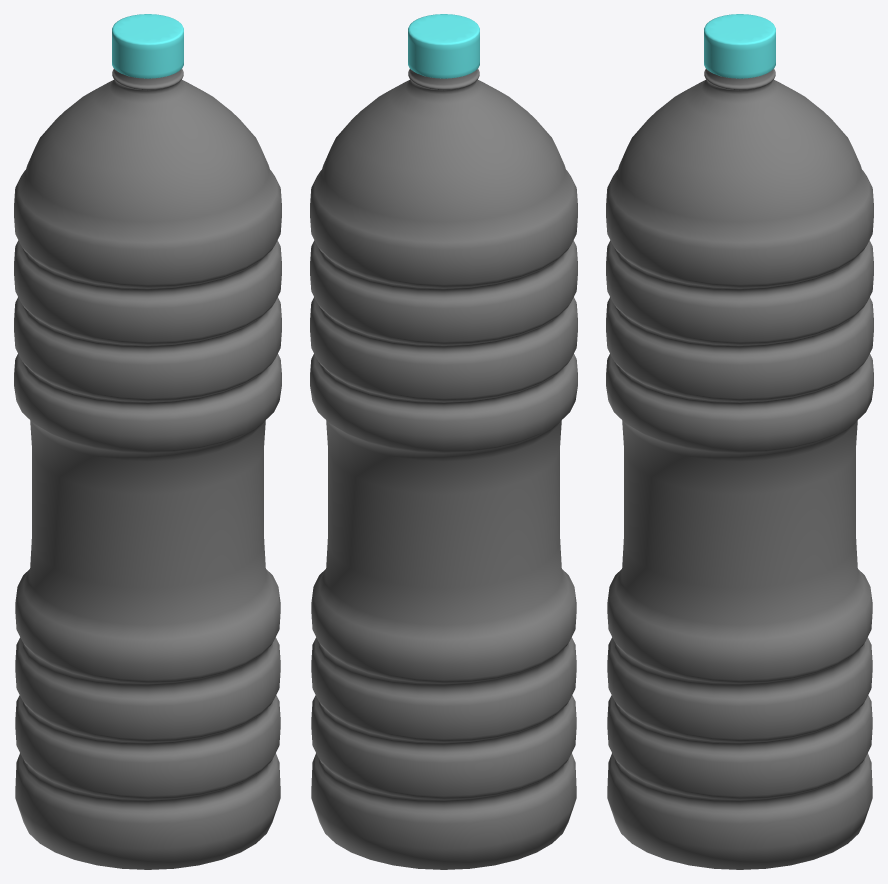
File: Water bottle.fbx
The picture shows the model from 3 angles, left to right: view 1: azimuth 30°, elevation 25°; view 2: azimuth 150°, elevation 25°; view 3: azimuth 270°, elevation 25°; orthographic projection.
Visible parts, largest first — view 1: 1,5L Bottle Done; view 2: 1,5L Bottle Done; view 3: 1,5L Bottle Done.
Part boxes in pixels (x1,y1,x2,y2): 1,5L Bottle Done: [14, 14, 281, 869]; 1,5L Bottle Done: [310, 14, 577, 869]; 1,5L Bottle Done: [606, 14, 873, 869].
Size of the model in its own units: 3.74 by 12.18 by 3.72.
